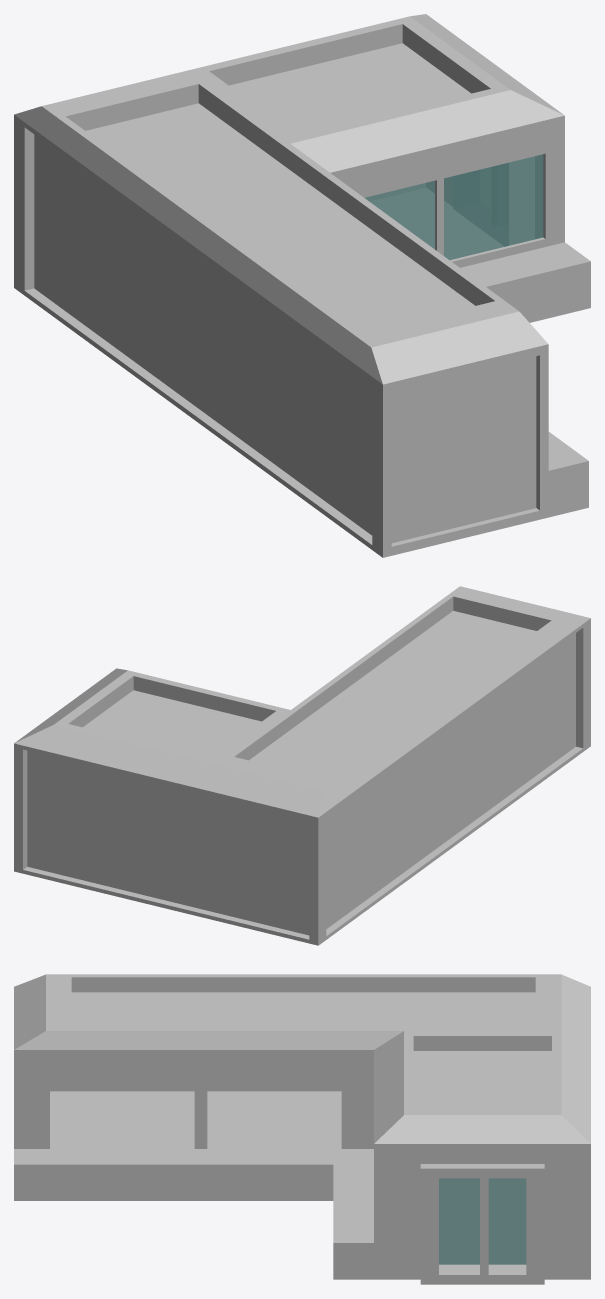
Rendered from Armory.fbx.
The picture shows the model from 3 angles, top to bottom: view 1: azimuth 30°, elevation 25°; view 2: azimuth 150°, elevation 25°; view 3: azimuth 270°, elevation 25°; orthographic projection. The views are drawn at different scales.
Parts seen in each view (by area): view 1: pCube24; view 2: pCube24; view 3: pCube24.
Boxes of the visible parts, box(x1,y1,x2,y2) form: pCube24: box(14, 14, 590, 557); pCube24: box(14, 586, 590, 945); pCube24: box(14, 974, 590, 1284).
Bounding box in the file's own units: 18.15 × 7.89 × 27.3.
